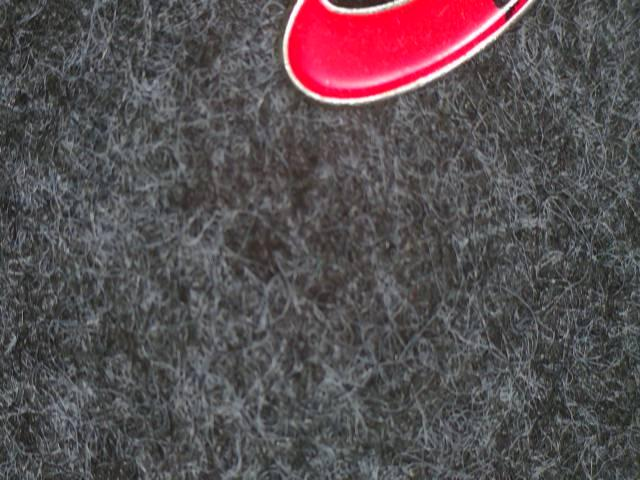Red-Hat: (260, 0, 592, 139)
